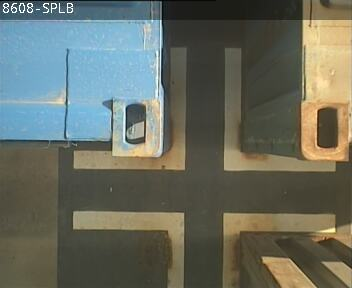groundmarker_1: (74, 48, 335, 171), (72, 209, 334, 288)
